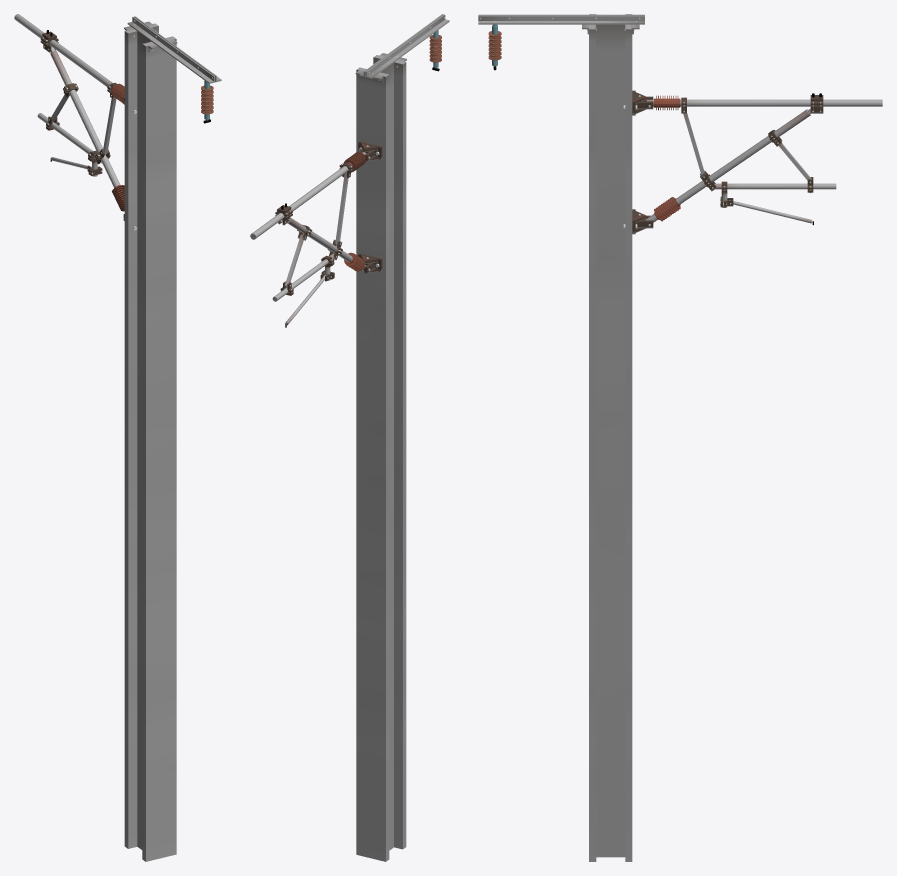
The model's file is catenary_short.obj.
3 renders of one model, left to right at view 1: azimuth 30°, elevation 25°; view 2: azimuth 150°, elevation 25°; view 3: azimuth 270°, elevation 25°, orthographic. The views are drawn at different scales.
Parts seen in each view (by area): view 1: cuboid, cylinder; view 2: cuboid, cylinder; view 3: cuboid, cylinder.
Boxes of the visible parts, x1=… form: cuboid: x1=40, y1=16, x2=221, y2=861; cylinder: x1=14, y1=14, x2=213, y2=230; cuboid: x1=275, y1=14, x2=449, y2=861; cylinder: x1=250, y1=17, x2=444, y2=327; cuboid: x1=478, y1=14, x2=823, y2=861; cylinder: x1=479, y1=17, x2=882, y2=228.
Size of the model in its own units: 0.3125 by 8 by 3.5.
Materials: 1 (1 with a texture image).
